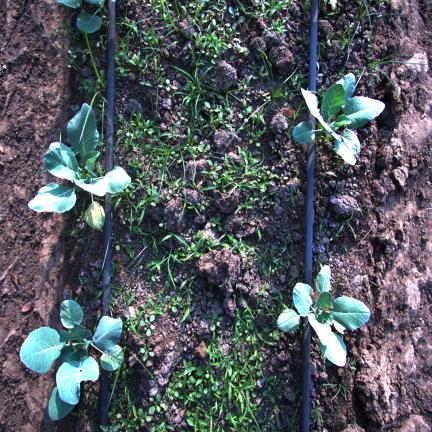crop: (28, 104, 131, 229), (20, 300, 122, 420), (277, 265, 370, 366), (293, 73, 385, 165), (55, 0, 102, 33), (83, 0, 103, 7)
